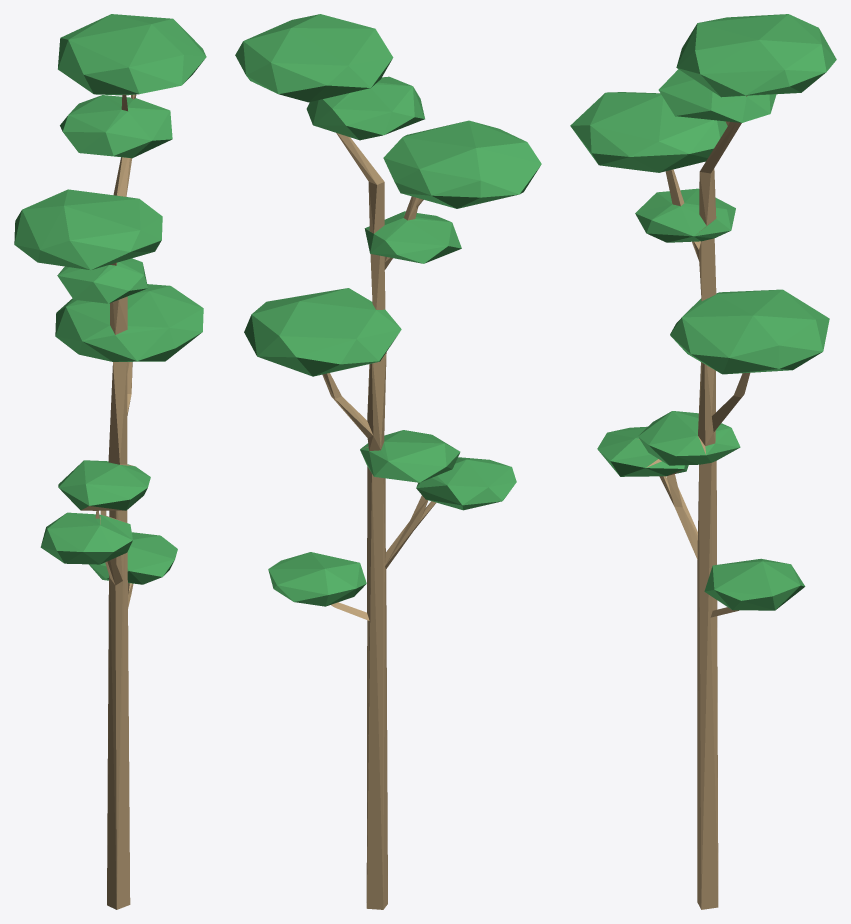
The model's file is tree36.fbx.
3 views of the same model, side by side, from view 1: azimuth 30°, elevation 25°; view 2: azimuth 150°, elevation 25°; view 3: azimuth 270°, elevation 25° (orthographic). The views are drawn at different scales.
Visible parts, largest first — view 1: treetype36; view 2: treetype36; view 3: treetype36.
Boxes of the visible parts, left/top/right/bottom form: treetype36: left=14, top=14, right=206, bottom=909; treetype36: left=235, top=14, right=541, bottom=909; treetype36: left=570, top=14, right=836, bottom=909.
Size of the model in its own units: 66.67 by 242 by 65.38.
